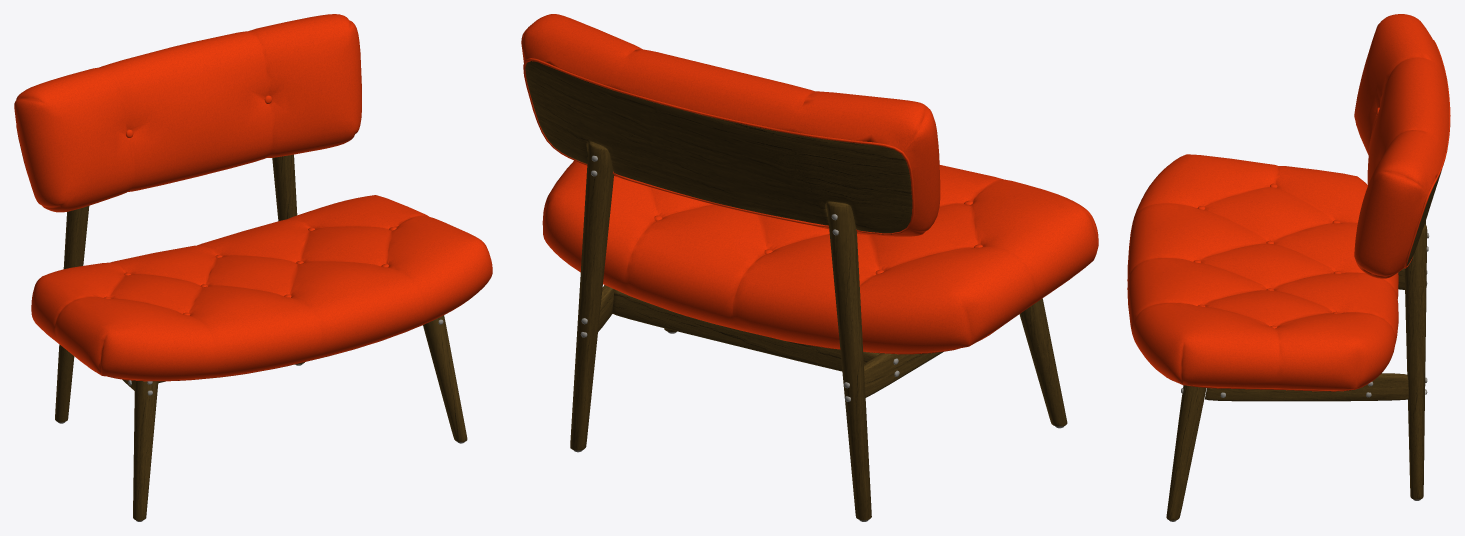
File: r_chair.glb
3 views of the same model, side by side, from view 1: azimuth 30°, elevation 25°; view 2: azimuth 150°, elevation 25°; view 3: azimuth 270°, elevation 25° (orthographic). The views are drawn at different scales.
Visible parts, largest first — view 1: SheenChair_fabric, SheenChair_wood; view 2: SheenChair_fabric, SheenChair_wood; view 3: SheenChair_fabric, SheenChair_wood.
Part boxes in pixels (x1=…): SheenChair_fabric: x1=14, y1=14, x2=492, y2=381; SheenChair_wood: x1=55, y1=154, x2=467, y2=520; SheenChair_fabric: x1=521, y1=14, x2=1098, y2=354; SheenChair_wood: x1=525, y1=61, x2=1067, y2=520; SheenChair_fabric: x1=1127, y1=14, x2=1450, y2=391; SheenChair_wood: x1=1166, y1=170, x2=1441, y2=520.
Size of the model in its own units: 0.8266 by 0.6861 by 0.5702.
Materials: 4 (3 with a texture image).
